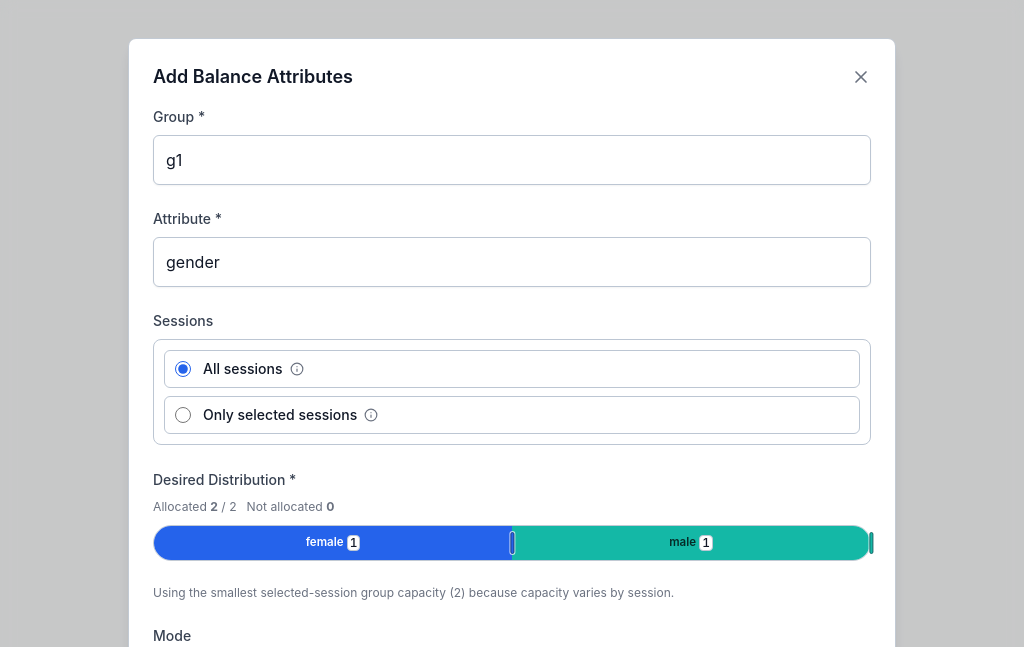
Test: AttributeBalanceModal › seeds create-mode defaults from the selected-session mix and minimum capacity
Expected: the text "Using the smallest selected-session group capacity (2)" is shown, [153, 585, 674, 600]
Expected: the field named "female count" holds "1", [347, 535, 360, 551]
Click the radio button labelled "Only selected sessions". click: (183, 415)
box: [175, 407, 191, 423]
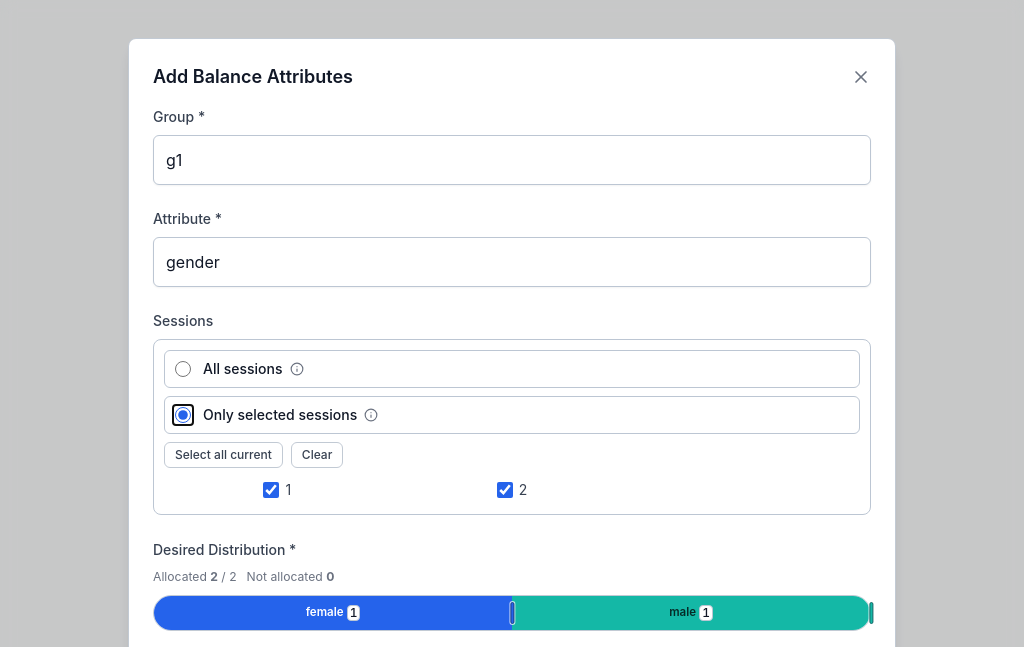
Click the checkbox labelled "2". click: (505, 490)
box: [497, 482, 513, 498]
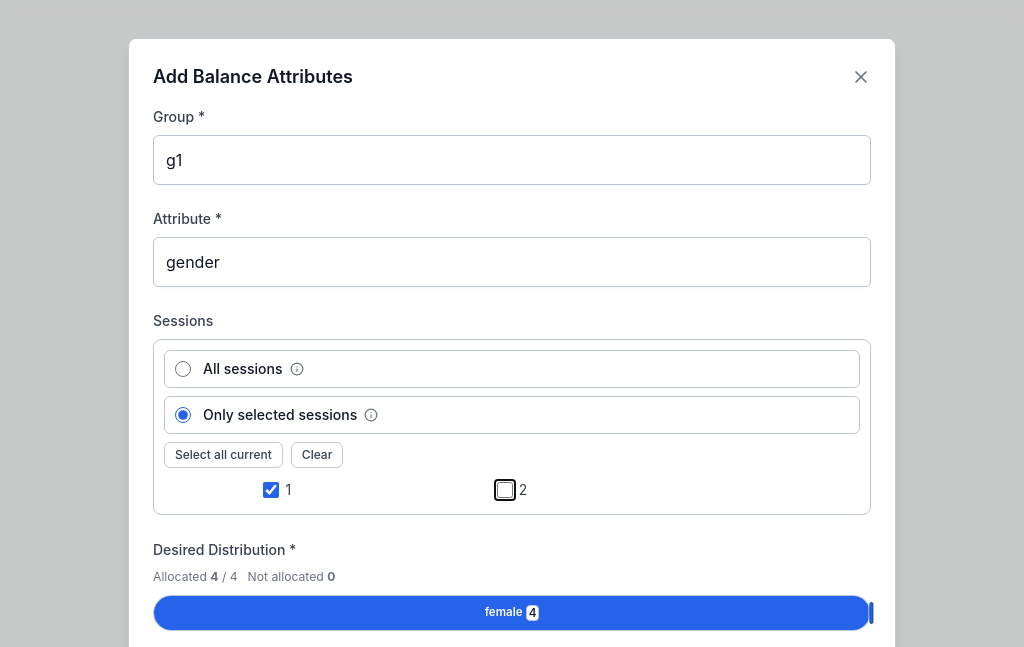
Expected: the field named "female count" holds "4", [526, 605, 539, 621]
